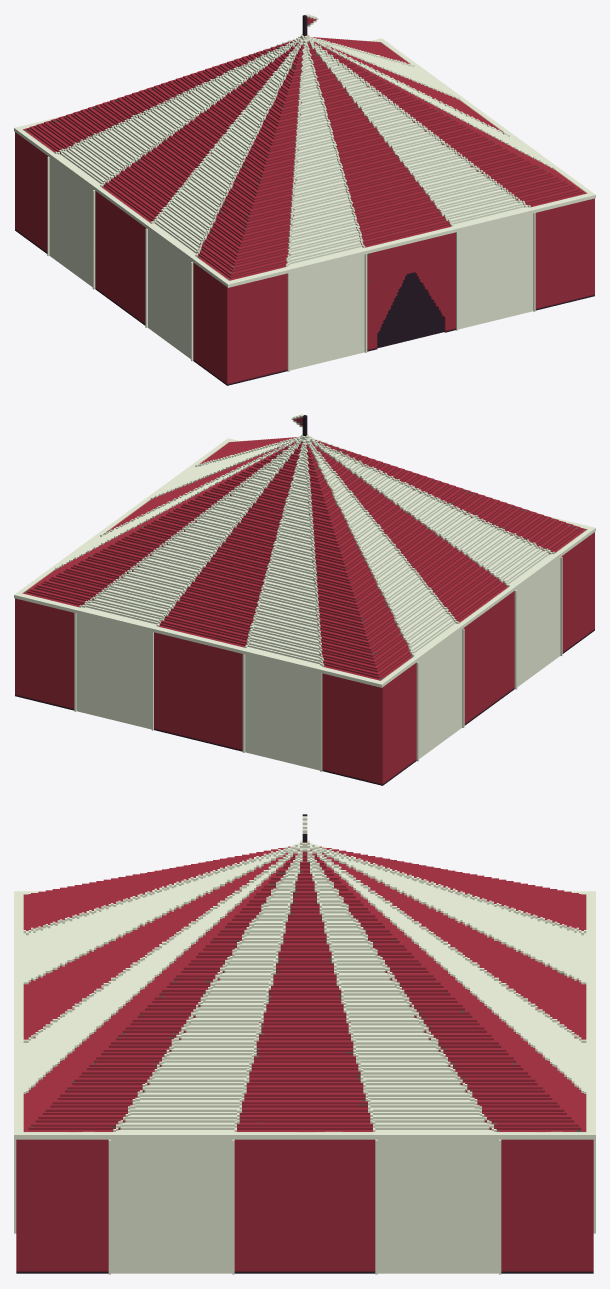
File: Circus.fbx
3 renders of one model, top to bottom at view 1: azimuth 30°, elevation 25°; view 2: azimuth 150°, elevation 25°; view 3: azimuth 270°, elevation 25°, orthographic. The views are drawn at different scales.
Visible parts, largest first — view 1: Object; view 2: Object; view 3: Object.
Part boxes in pixels (left/top/right/bottom): Object: left=14, top=14, right=595, bottom=385; Object: left=14, top=414, right=595, bottom=785; Object: left=14, top=814, right=595, bottom=1274.
Bounding box in the file's own units: 240 × 153 × 240.
